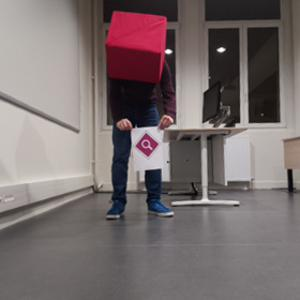search: (135, 131, 160, 158)
